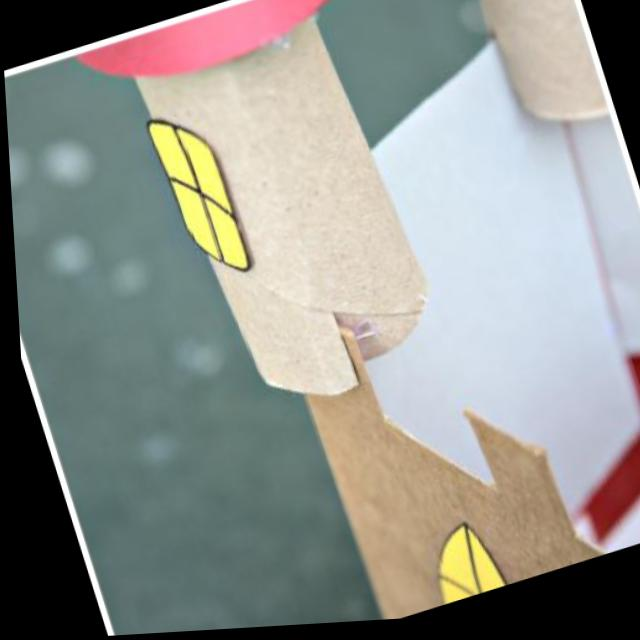box: (98, 0, 481, 437), (237, 258, 640, 630)
